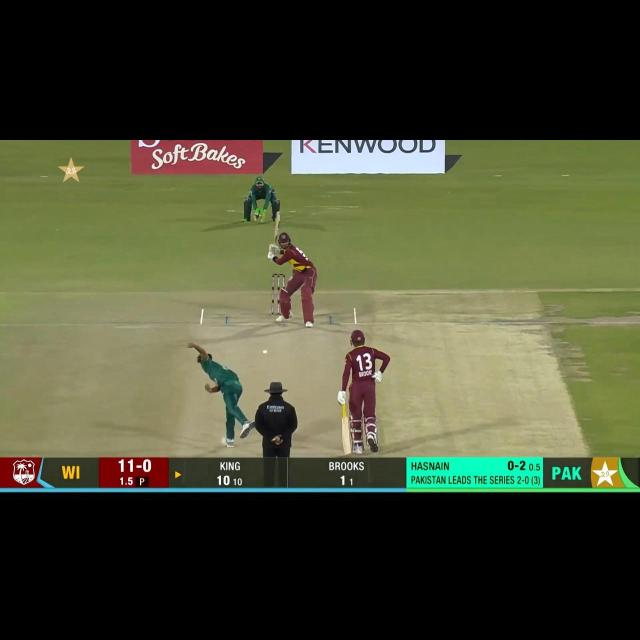bat: (340, 417, 352, 455), (272, 209, 282, 248)
toe: (272, 208, 283, 218), (339, 449, 354, 456)
